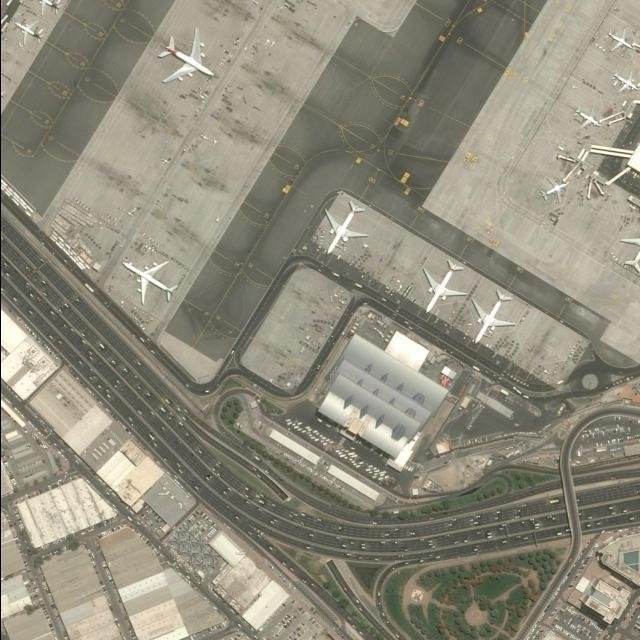Aircraft: (152, 29, 214, 87), (319, 202, 369, 256), (420, 258, 466, 315), (120, 260, 176, 306), (467, 290, 512, 344), (615, 227, 640, 277), (537, 178, 567, 204), (12, 22, 44, 46), (601, 29, 631, 53), (571, 106, 599, 130), (609, 71, 637, 95), (30, 0, 61, 15)
